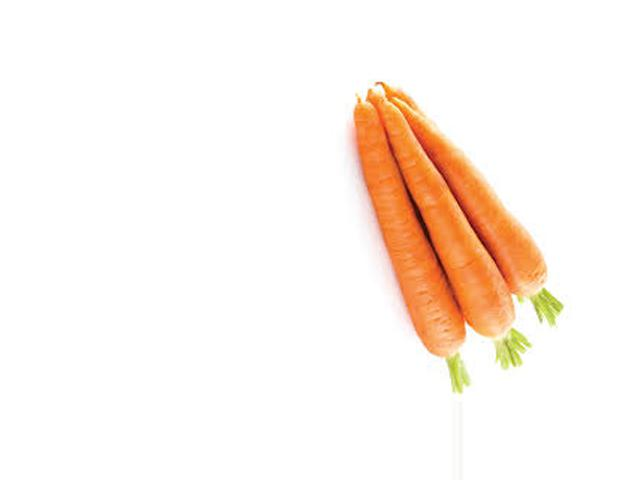carrot: (304, 118, 466, 403)
